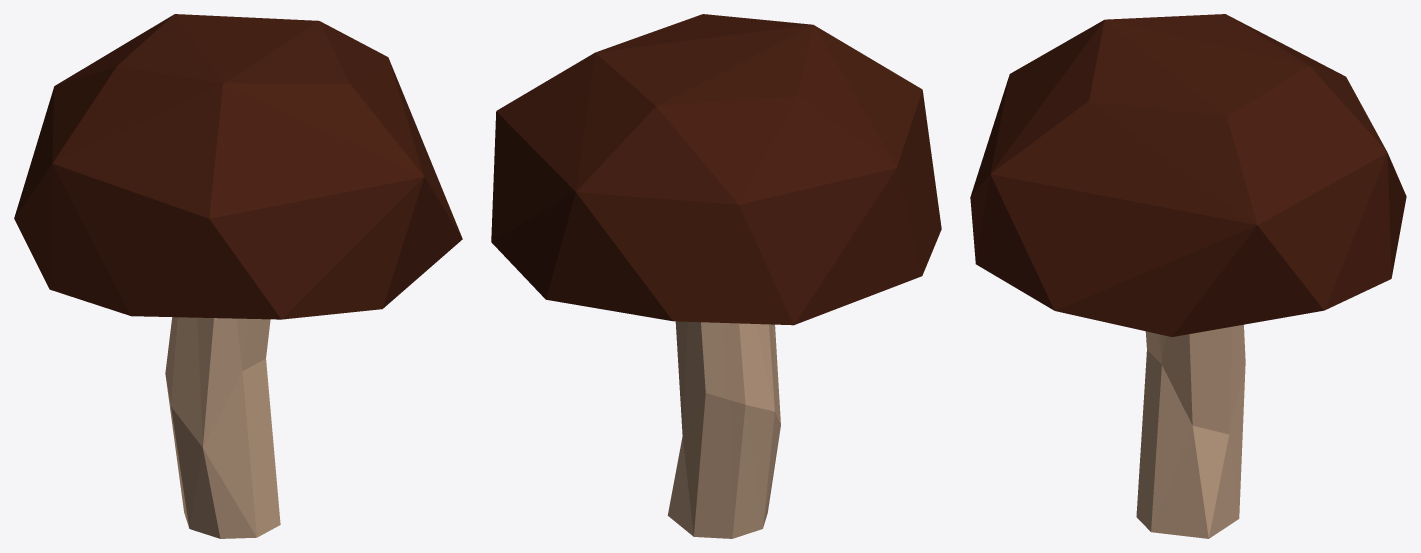
The model's file is mushroom3.obj.
3 views of the same model, side by side, from view 1: azimuth 30°, elevation 25°; view 2: azimuth 150°, elevation 25°; view 3: azimuth 270°, elevation 25° (orthographic).
Visible parts, largest first — view 1: Mushroom1_1.001_Cylinder.049; view 2: Mushroom1_1.001_Cylinder.049; view 3: Mushroom1_1.001_Cylinder.049.
Part boxes in pixels (left/top/right/bottom): Mushroom1_1.001_Cylinder.049: left=14, top=14, right=462, bottom=538; Mushroom1_1.001_Cylinder.049: left=491, top=14, right=941, bottom=538; Mushroom1_1.001_Cylinder.049: left=970, top=14, right=1406, bottom=538.
Size of the model in its own units: 0.5019 by 0.598 by 0.499.
